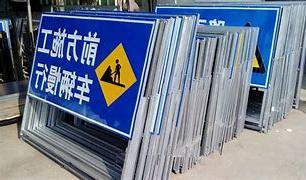sign: (22, 12, 157, 138)
